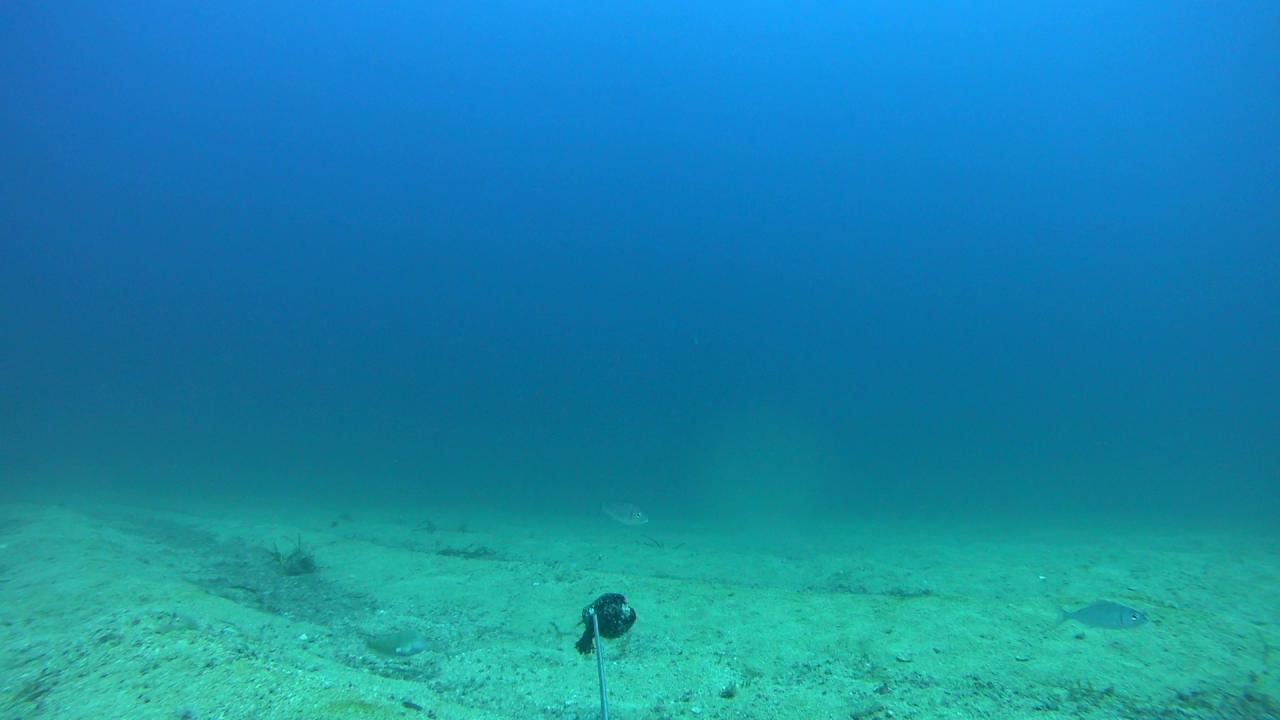pagellus: (1048, 597, 1148, 634), (597, 496, 651, 530)
raor: (348, 625, 429, 659)
